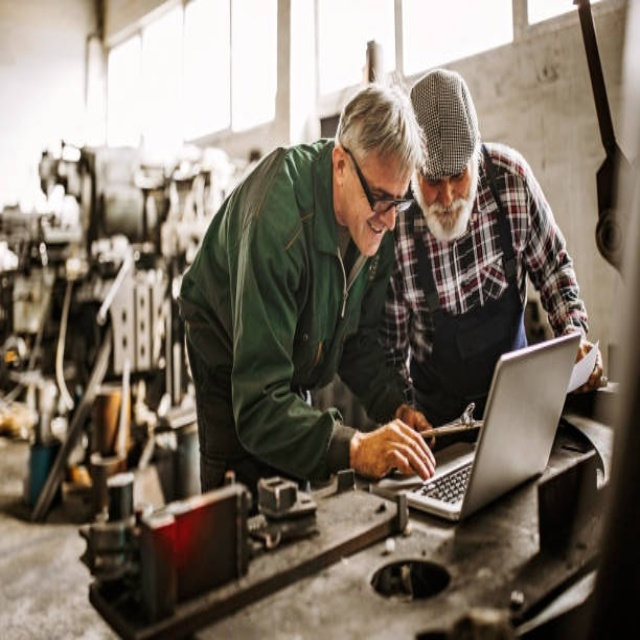Gafas: (343, 144, 413, 214)
Sin_gafas: (417, 157, 474, 200)
Sin_guantes: (352, 418, 434, 482), (574, 338, 606, 391)
Sin_mascara: (359, 215, 392, 254), (432, 201, 466, 237)
